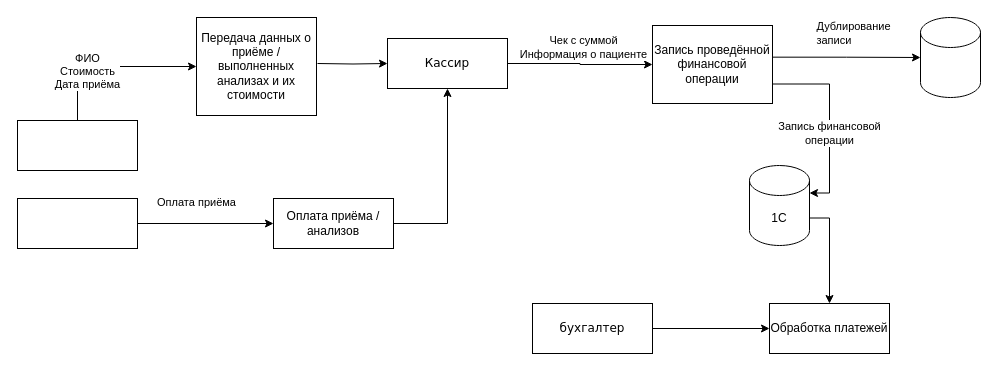
Some shapes in this 998 by 371 pixel diagram are drawn without their labels. The shapes that lost their labels are listed below. From the top down, each one's box as (x1, y1, x2, y2) in pixels, then its label:
(920, 16, 980, 98): Excel
(16, 120, 138, 170): Ресепшн
(16, 198, 138, 248): Пациент
